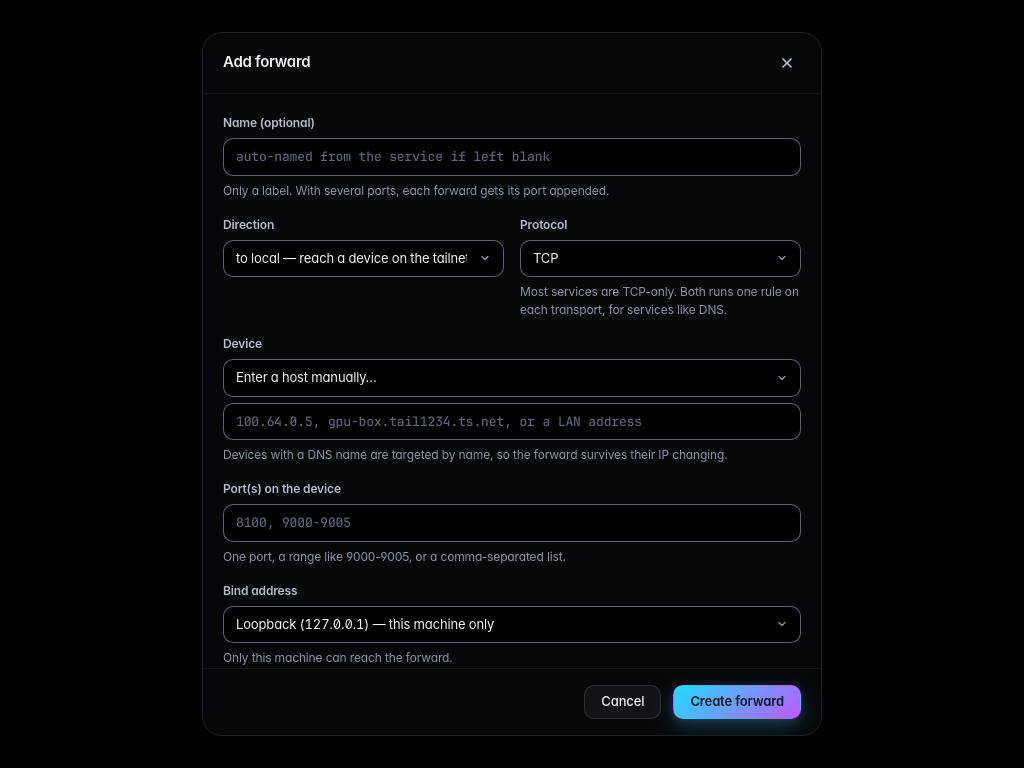
Scenario: creating a range of forwards › keeps the forwards it created and names the ones it could not
The width and height of the screenshot is (1024, 768).
Type "gpu-box" into the field named "Host" at (512, 421), box 223,402 -> 801,440
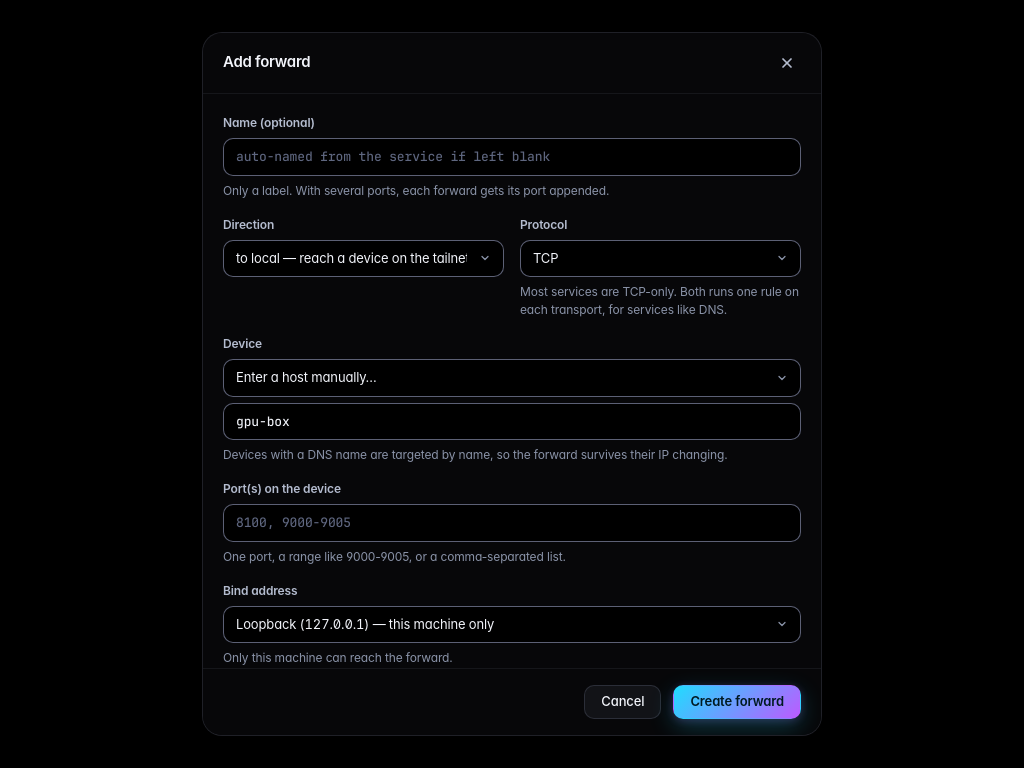
Type "9000-9002" into the field labelled "Port(s) on the device" at (512, 523), box 223,504 -> 801,542
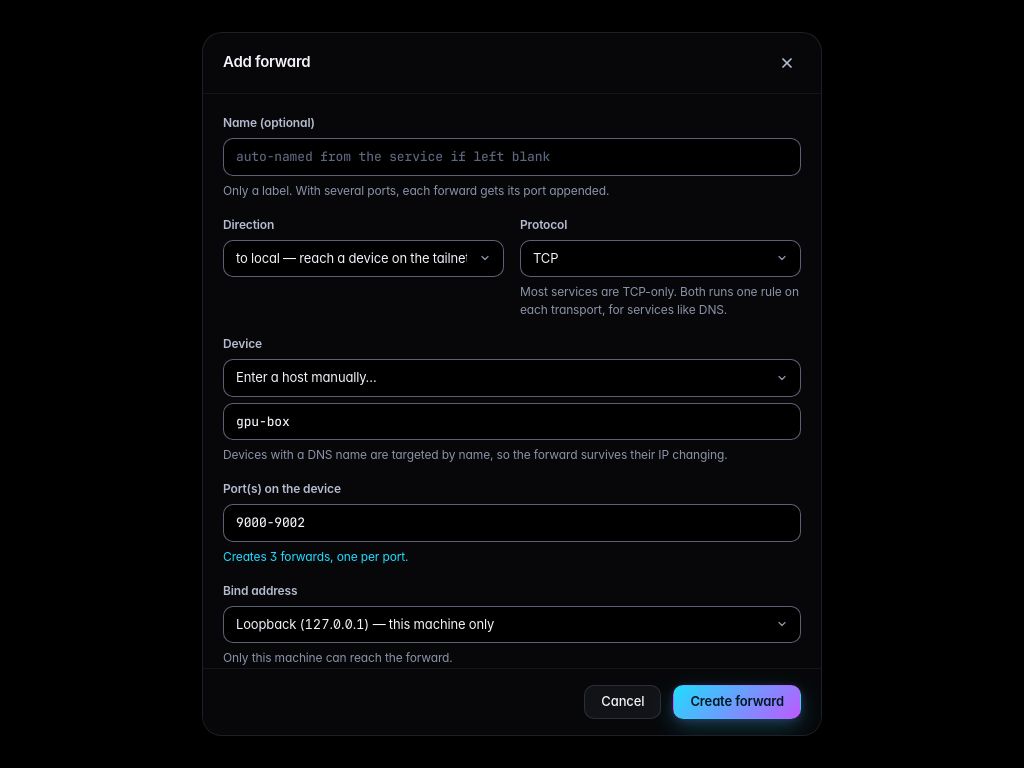
Click the button "Create forward" at (737, 702), box 673,686 -> 801,719
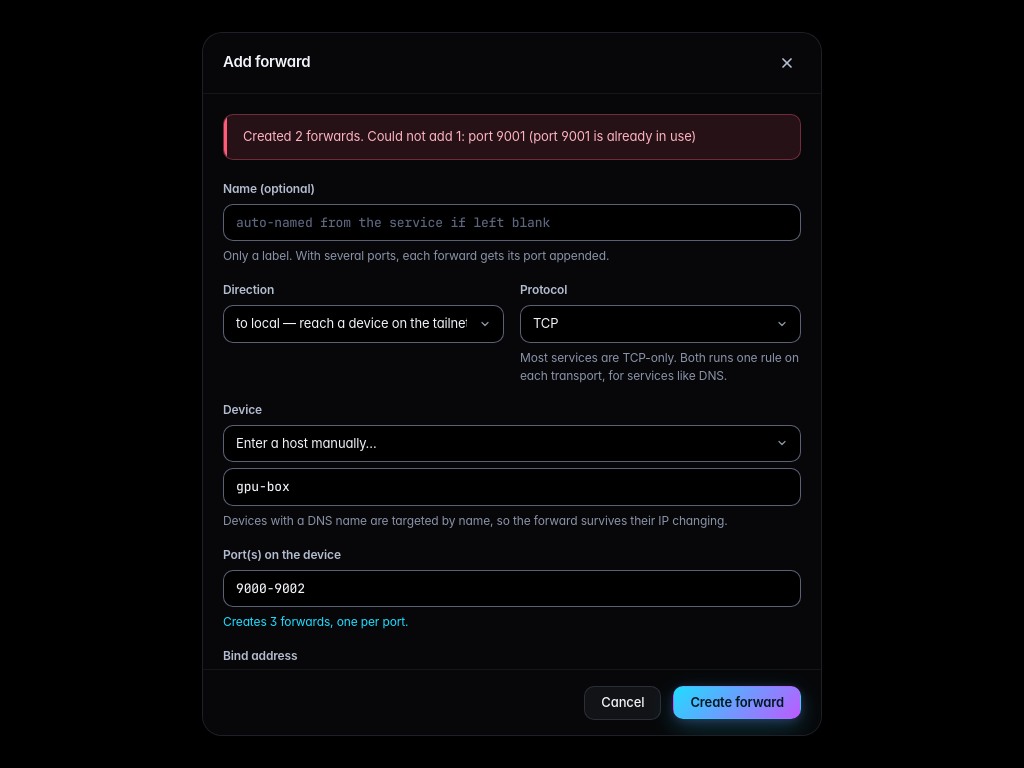
Check: the text "Created 2 forwards." shows "Could not add 1: port 9001 (port 9001 is already in use)", box 243,128 -> 696,144
